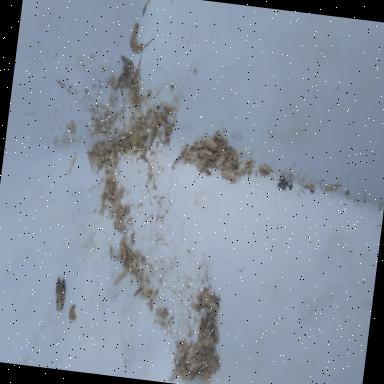pbw: (52, 276, 66, 310), (186, 356, 209, 375), (182, 348, 204, 367), (169, 360, 187, 382), (198, 294, 222, 310), (176, 363, 192, 382), (200, 318, 214, 339), (174, 346, 189, 365), (195, 342, 215, 356), (196, 147, 216, 161), (204, 353, 220, 370), (204, 136, 220, 152), (214, 150, 228, 168), (204, 306, 218, 320), (196, 370, 210, 383), (210, 326, 220, 343), (222, 154, 238, 164), (67, 304, 77, 320), (214, 138, 228, 148), (211, 150, 223, 161)
